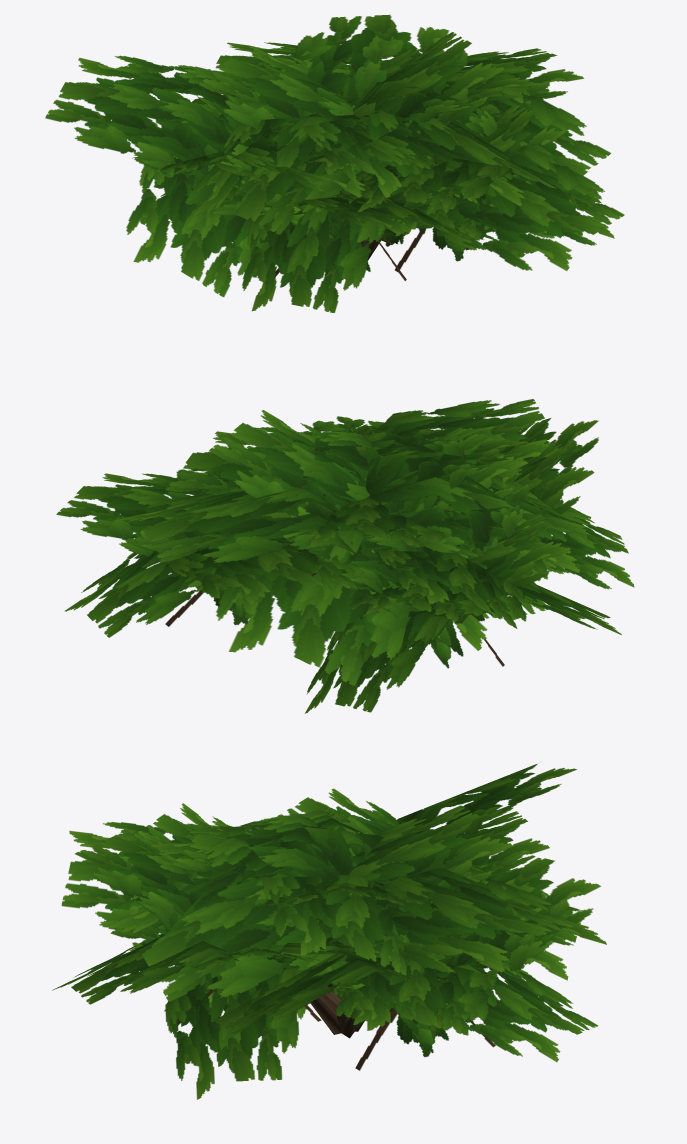
File: bush_3d.glb
3 views of the same model, one above another, from view 1: azimuth 30°, elevation 25°; view 2: azimuth 150°, elevation 25°; view 3: azimuth 270°, elevation 25° (orthographic). The views are drawn at different scales.
Visible parts, largest first — view 1: Bush_3D; view 2: Bush_3D; view 3: Bush_3D.
Boxes of the visible parts, left/top/right/bottom form: Bush_3D: left=45, top=14, right=624, bottom=312; Bush_3D: left=56, top=399, right=634, bottom=713; Bush_3D: left=52, top=764, right=606, bottom=1099.
Bounding box in the file's own units: 1.35 × 0.4738 × 1.34.
1 material, 1 textured.
